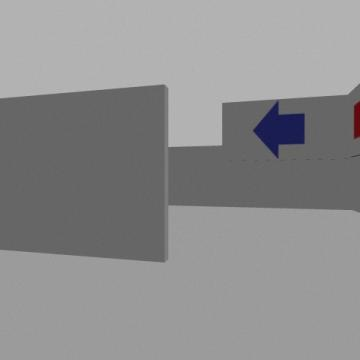blue_left: (253, 101, 304, 158)
